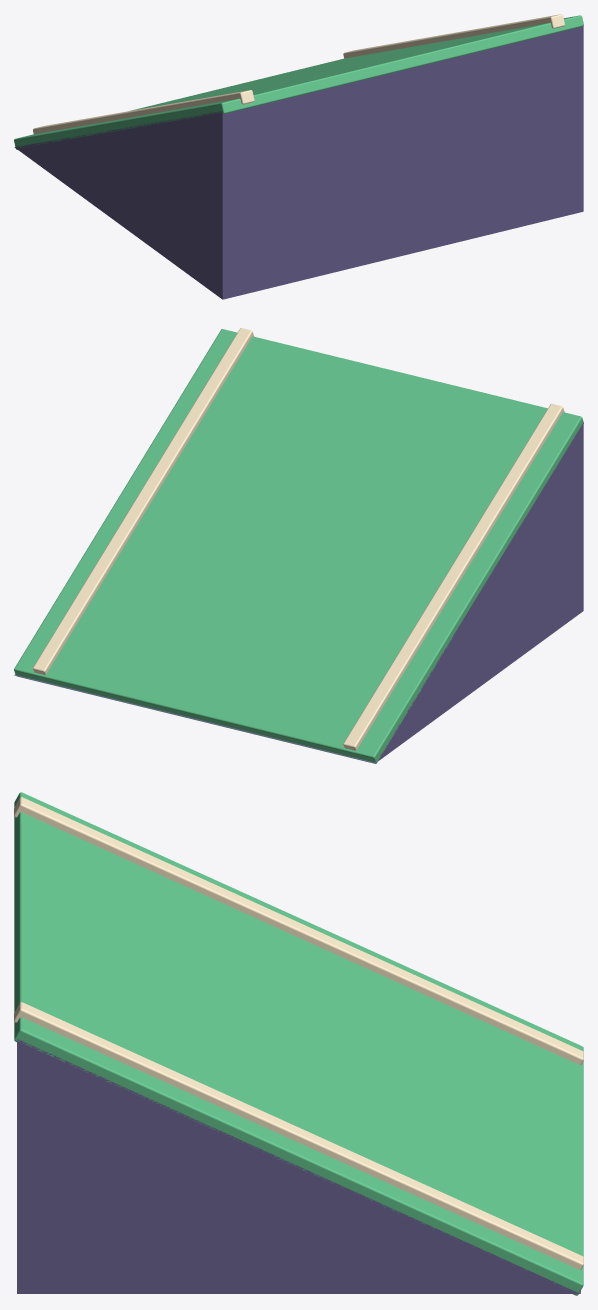
Rendered from playground-ramp.glb.
3 views of the same model, one above another, from view 1: azimuth 30°, elevation 25°; view 2: azimuth 150°, elevation 25°; view 3: azimuth 270°, elevation 25° (orthographic). The views are drawn at different scales.
Parts seen in each view (by area): view 1: wedge, ramp-surface, edge-stripe-0.86, edge-stripe--0.86; view 2: ramp-surface, wedge, edge-stripe--0.86, edge-stripe-0.86; view 3: ramp-surface, wedge, edge-stripe--0.86, edge-stripe-0.86.
Boxes of the visible parts, x1,y1,x2,y2 form: wedge: (14,26,583,299); ramp-surface: (14,15,583,149); edge-stripe-0.86: (343,14,564,58); edge-stripe--0.86: (33,90,254,134); ramp-surface: (14,329,583,763); wedge: (14,422,583,763); edge-stripe--0.86: (343,404,564,750); edge-stripe-0.86: (33,328,254,674); ramp-surface: (14,792,583,1295); wedge: (17,1038,580,1293); edge-stripe--0.86: (14,797,583,1064); edge-stripe-0.86: (14,1002,583,1270).
Bounding box in the file's own units: 2 × 1.07 × 2.02.
